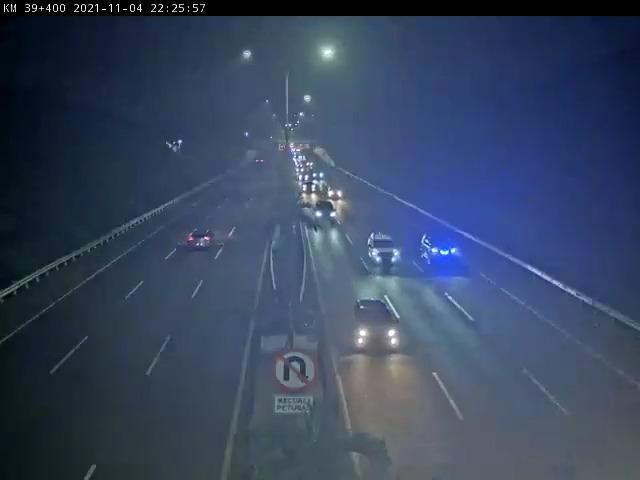car: (352, 300, 400, 354), (423, 236, 461, 270), (368, 236, 403, 267), (314, 204, 338, 227), (190, 229, 213, 249), (325, 184, 343, 200), (304, 184, 316, 195), (301, 174, 311, 181)
